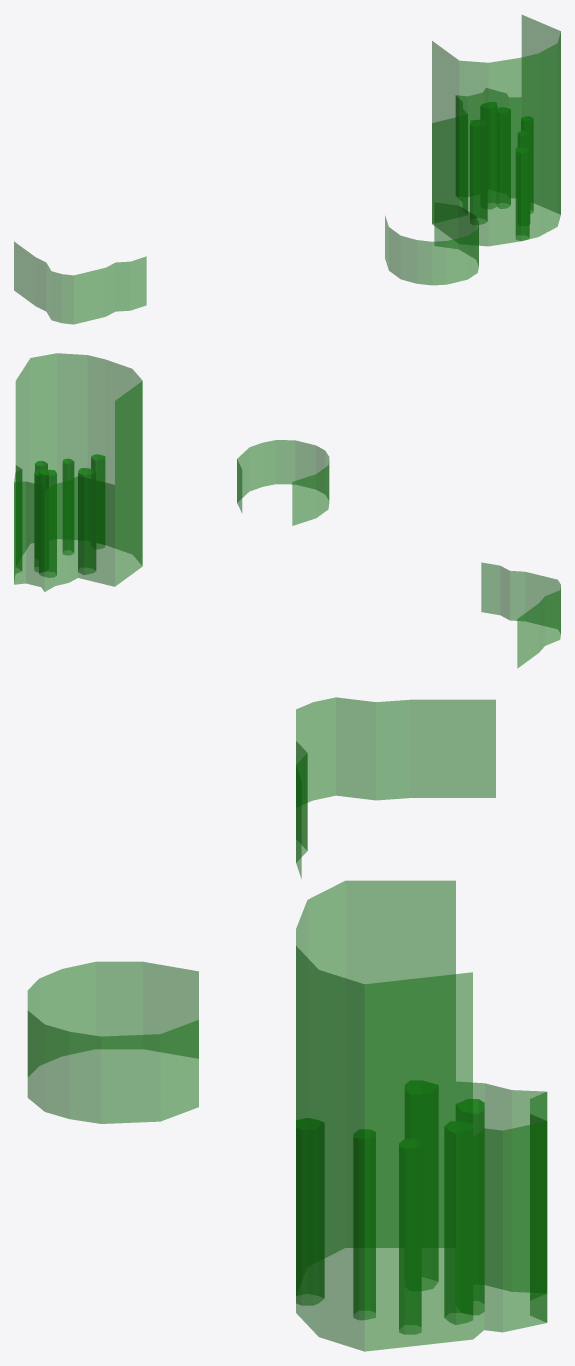
File: air_wall1.obj
The picture shows the model from 3 angles, top to bottom: view 1: azimuth 30°, elevation 25°; view 2: azimuth 150°, elevation 25°; view 3: azimuth 270°, elevation 25°; orthographic projection. The views are drawn at different scales.
Bounding box in the file's own units: 209 × 71 × 90.99.
